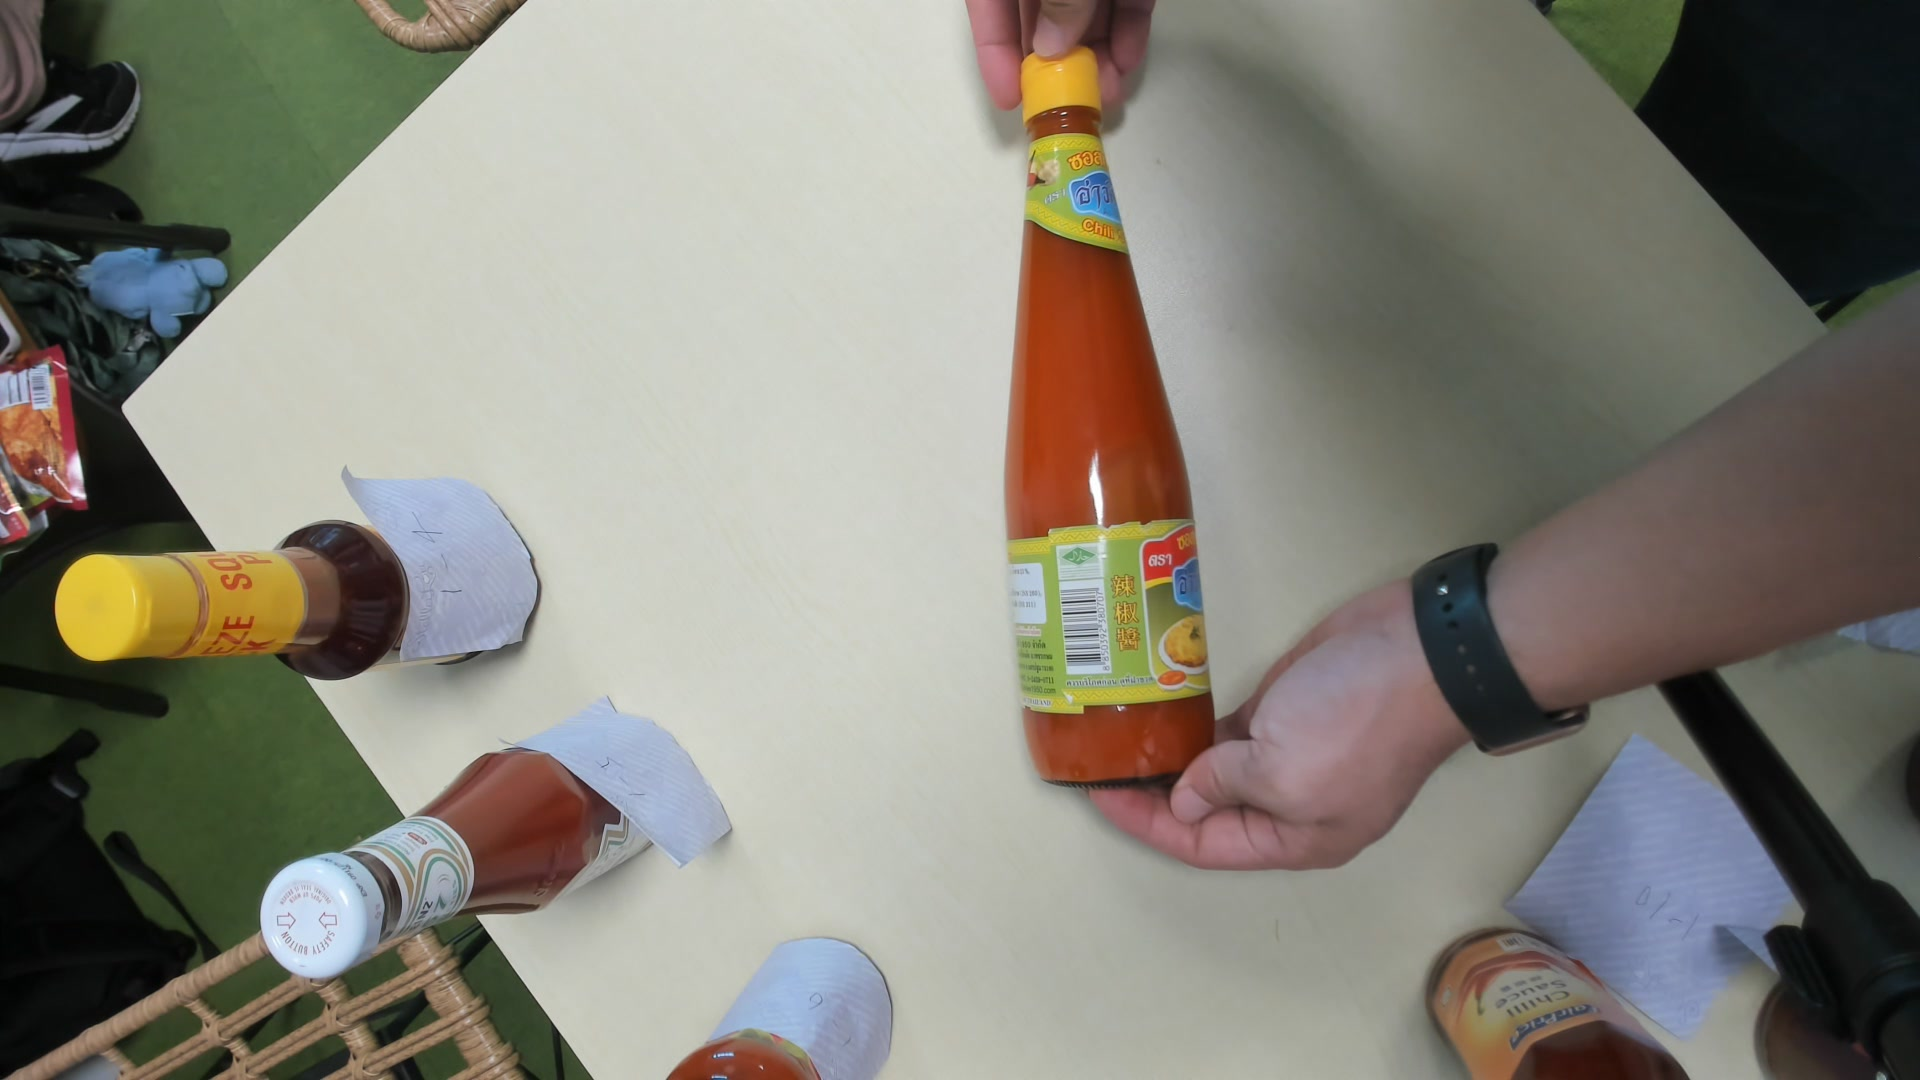KetchupChillSauce_600-699g_Halal_NonHealthy: (1000, 45, 1222, 789)
